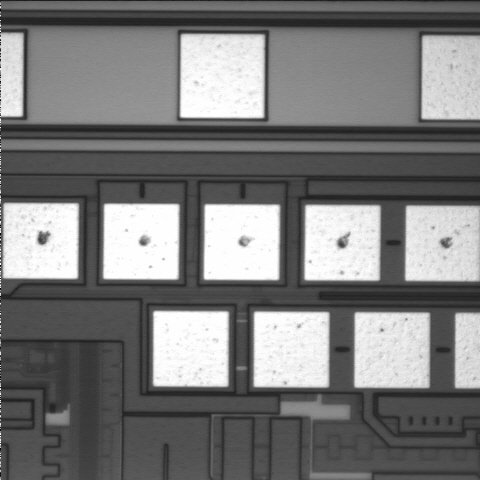pad: (180, 34, 264, 118), (3, 203, 79, 279), (103, 204, 179, 280), (204, 204, 280, 280), (304, 205, 380, 281), (153, 311, 229, 387), (354, 312, 430, 388), (254, 312, 329, 387)
